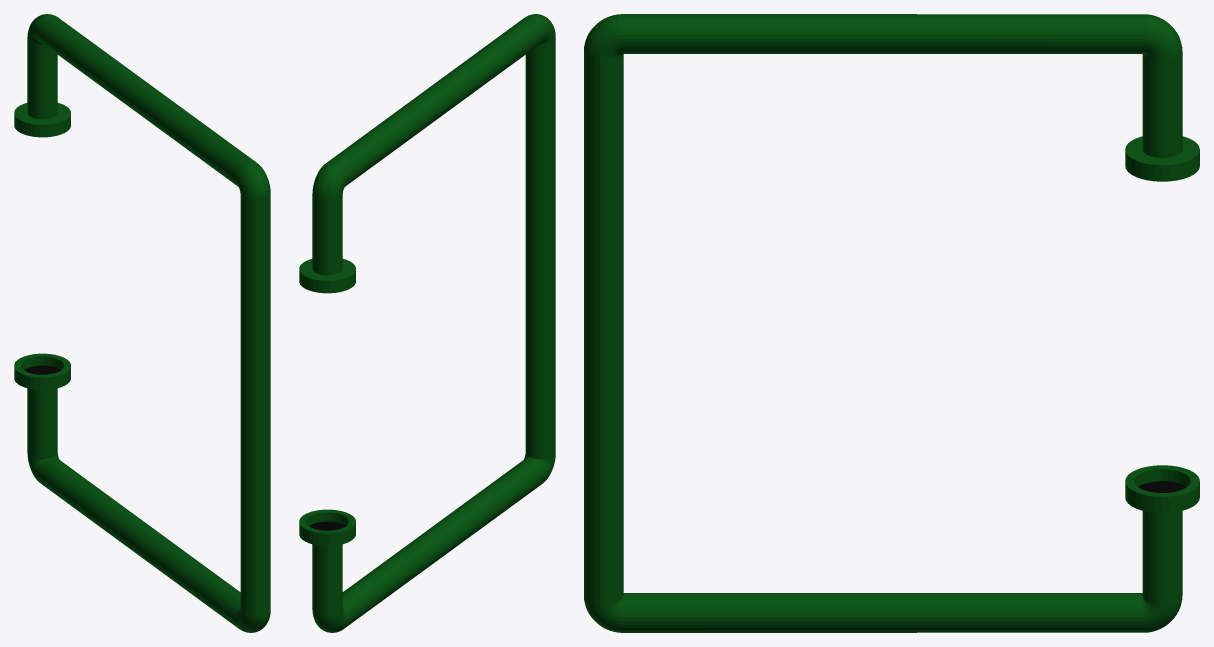
File: tubo.fbx
3 renders of one model, left to right at view 1: azimuth 30°, elevation 25°; view 2: azimuth 150°, elevation 25°; view 3: azimuth 270°, elevation 25°, orthographic. The views are drawn at different scales.
Visible parts, largest first — view 1: Cylinder.002; view 2: Cylinder.002; view 3: Cylinder.002.
Boxes of the visible parts, box(x1,y1,x2,y2) form: Cylinder.002: box(14, 14, 270, 632); Cylinder.002: box(299, 14, 555, 632); Cylinder.002: box(584, 14, 1199, 632).
Bounding box in the file's own units: 374 × 3401 × 3086.
